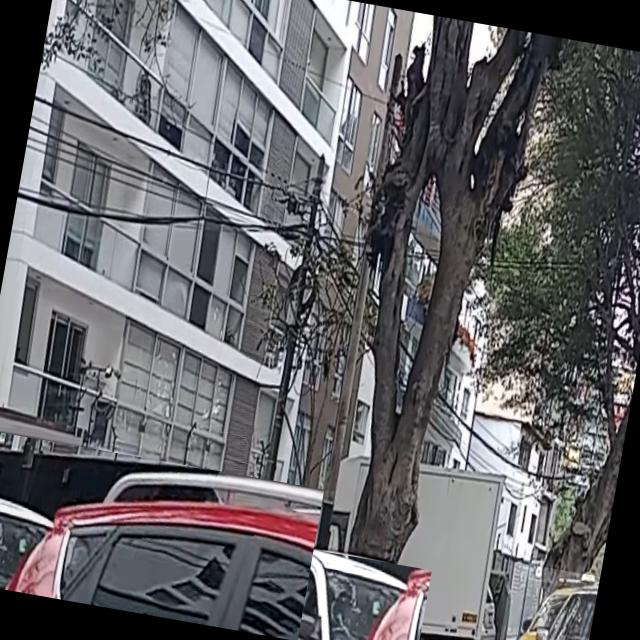car: (0, 428, 323, 640), (184, 529, 431, 640), (493, 561, 600, 640), (510, 578, 579, 640)
